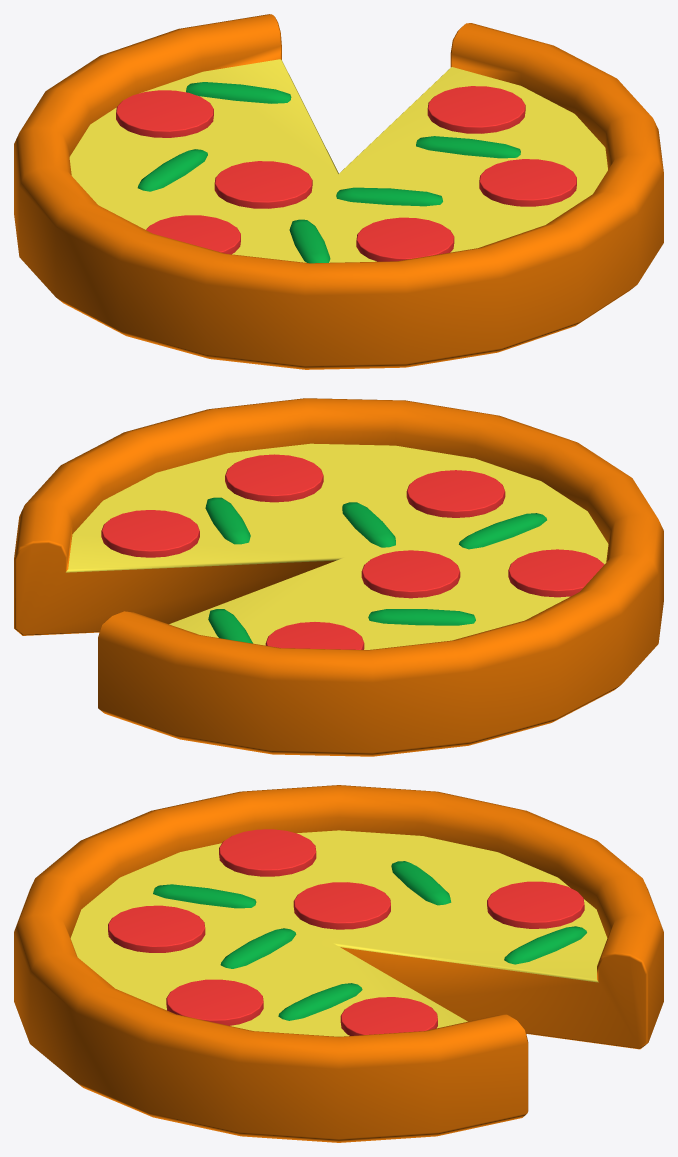
The model's file is Store_1_Pizza_4.glb.
3 renders of one model, top to bottom at view 1: azimuth 30°, elevation 25°; view 2: azimuth 150°, elevation 25°; view 3: azimuth 270°, elevation 25°, orthographic.
Parts seen in each view (by area): view 1: Store_1_Pizza_4; view 2: Store_1_Pizza_4; view 3: Store_1_Pizza_4.
Boxes of the visible parts, box(x1,y1,x2,y2) form: Store_1_Pizza_4: box(14, 14, 663, 369); Store_1_Pizza_4: box(14, 398, 663, 756); Store_1_Pizza_4: box(14, 785, 663, 1142).
Bounding box in the file's own units: 0.5334 × 0.0853 × 0.5334.
Materials: 1 (1 with a texture image).
